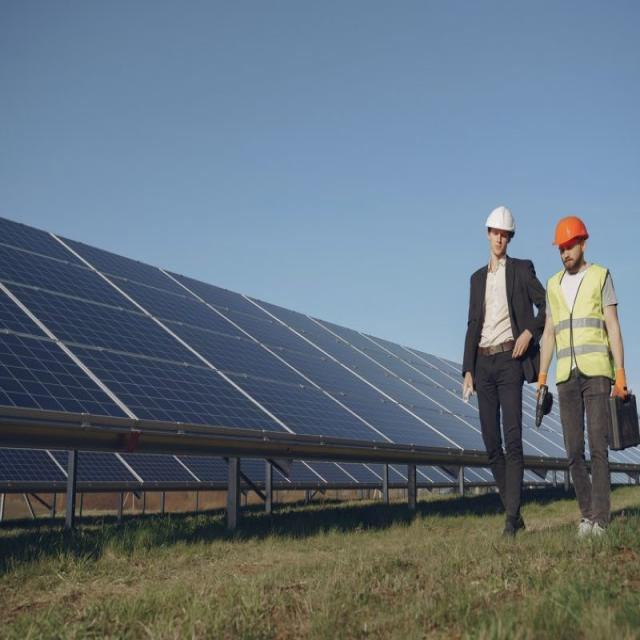clean-solar-panel: (1, 218, 484, 452)
